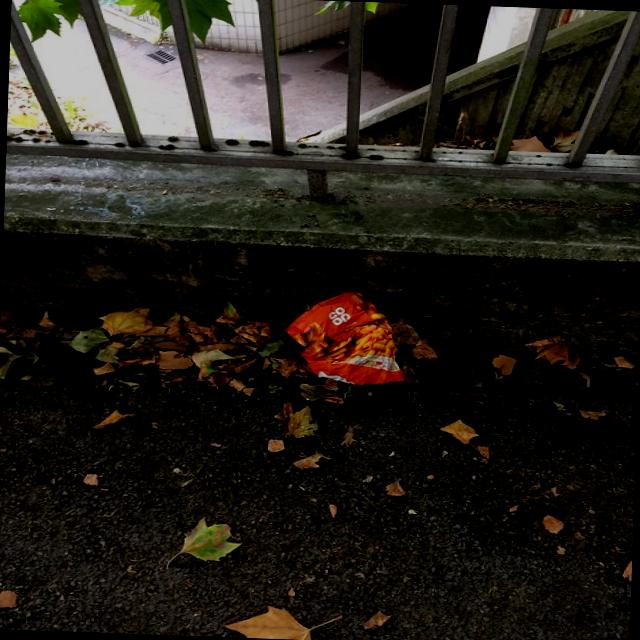Trash: (282, 289, 409, 384)
